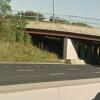Bridge: (13, 8, 98, 56)
